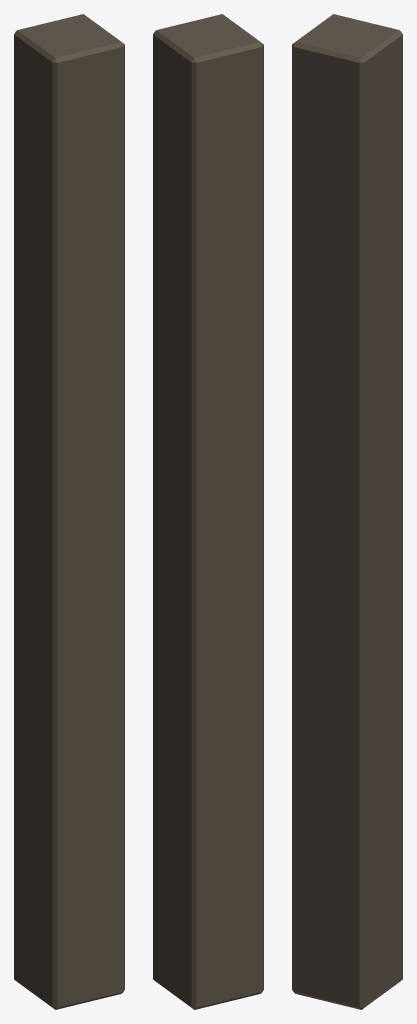
Rendered from GE_SILO_SUPPORT_LODs.fbx.
3 renders of one model, left to right at view 1: azimuth 30°, elevation 25°; view 2: azimuth 210°, elevation 25°; view 3: azimuth 330°, elevation 25°, orthographic.
Visible parts, largest first — view 1: GE_SILO_SUPPORT_LOD0; view 2: GE_SILO_SUPPORT_LOD0; view 3: GE_SILO_SUPPORT_LOD0.
Boxes of the visible parts, left/top/right/bottom form: GE_SILO_SUPPORT_LOD0: left=14, top=14, right=124, bottom=1009; GE_SILO_SUPPORT_LOD0: left=153, top=14, right=263, bottom=1009; GE_SILO_SUPPORT_LOD0: left=292, top=14, right=402, bottom=1009.
Size of what is drawn, in the model's own units: 0.4 by 5 by 0.4.
